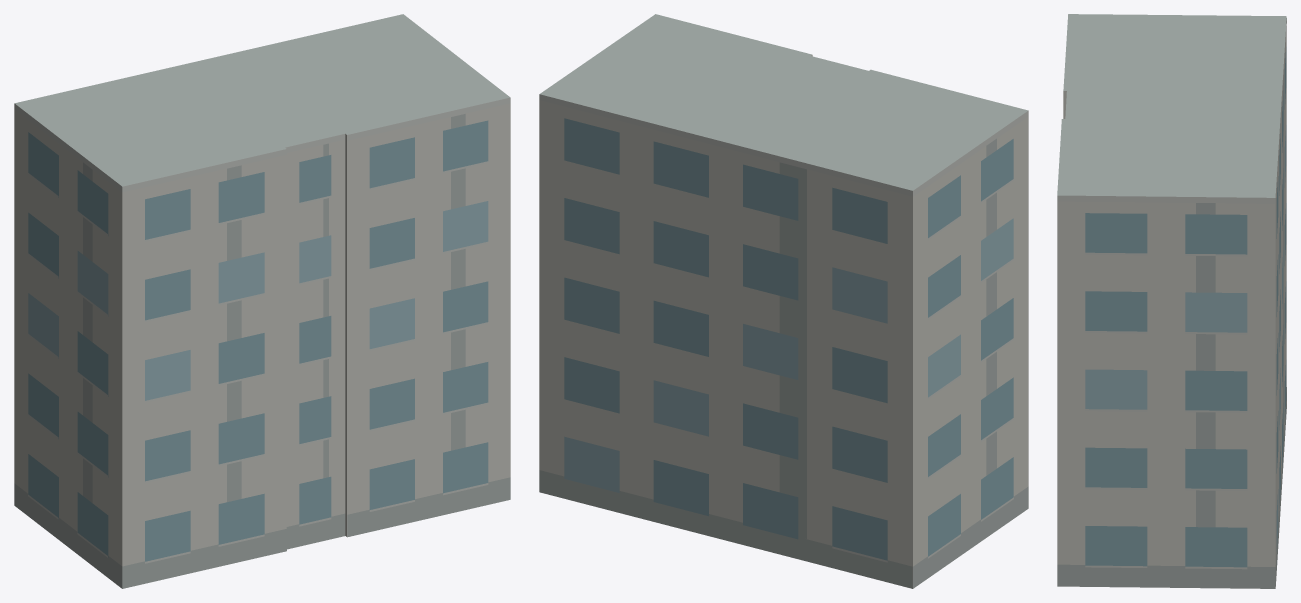
Rendered from survey-upis-33022600.glb.
3 renders of one model, left to right at view 1: azimuth 30°, elevation 25°; view 2: azimuth 150°, elevation 25°; view 3: azimuth 270°, elevation 25°, orthographic. The views are drawn at different scales.
Visible parts, largest first — view 1: survey-upis-33022600.tmp; view 2: survey-upis-33022600.tmp; view 3: survey-upis-33022600.tmp.
Boxes of the visible parts, x1,y1,x2,y2 form: survey-upis-33022600.tmp: (14,14,510,588); survey-upis-33022600.tmp: (539,14,1028,588); survey-upis-33022600.tmp: (1057,14,1286,588).
Size of the model in its own units: 16.55 by 16.4 by 8.74.
